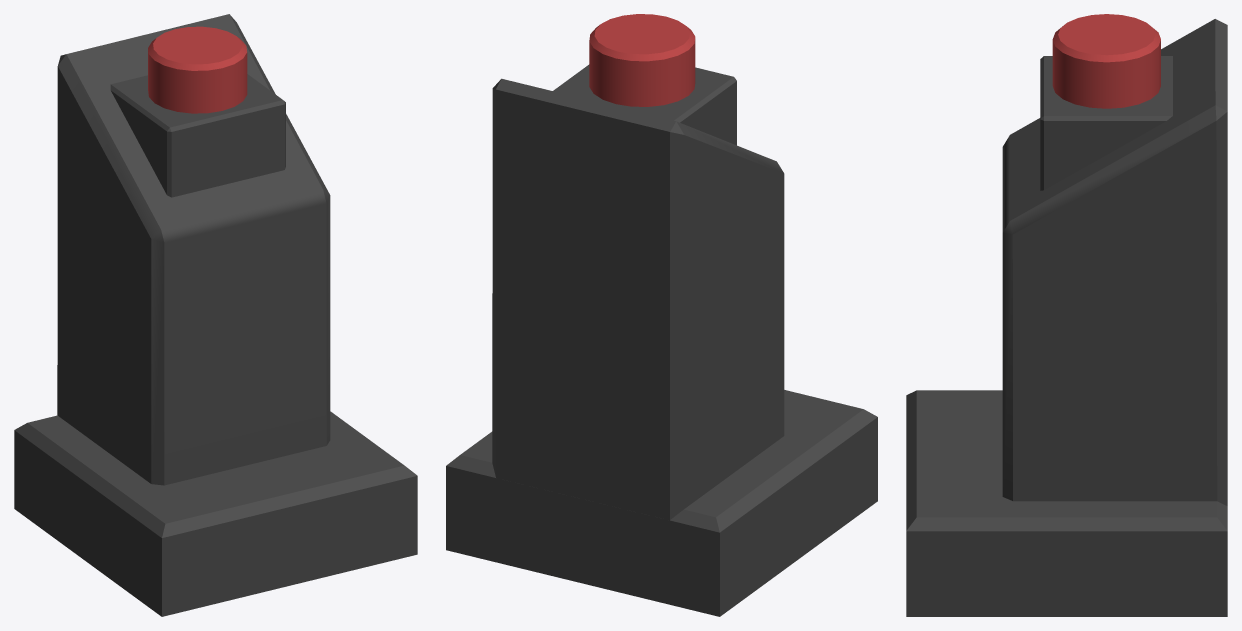
The model's file is Button.fbx.
3 renders of one model, left to right at view 1: azimuth 30°, elevation 25°; view 2: azimuth 150°, elevation 25°; view 3: azimuth 270°, elevation 25°, orthographic. The views are drawn at different scales.
Parts seen in each view (by area): view 1: Podium, Base, Box, Button; view 2: Podium, Base, Button, Box; view 3: Podium, Base, Button, Box.
Part boxes in pixels (bbox=[...]): Podium: bbox=[57, 14, 330, 485]; Base: bbox=[14, 411, 417, 616]; Box: bbox=[110, 74, 285, 197]; Button: bbox=[148, 26, 247, 113]; Podium: bbox=[492, 78, 784, 520]; Base: bbox=[446, 390, 877, 616]; Button: bbox=[589, 14, 695, 106]; Box: bbox=[553, 64, 736, 145]; Podium: bbox=[1002, 19, 1227, 505]; Base: bbox=[906, 390, 1227, 616]; Button: bbox=[1052, 14, 1160, 108]; Box: bbox=[1040, 56, 1172, 190].
Size of the model in its own units: 4.64 by 8.19 by 4.64.
